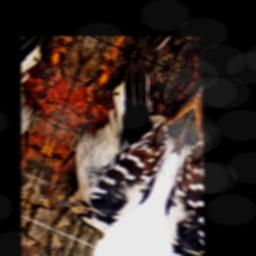Woodpecker: (27, 37, 201, 251)
